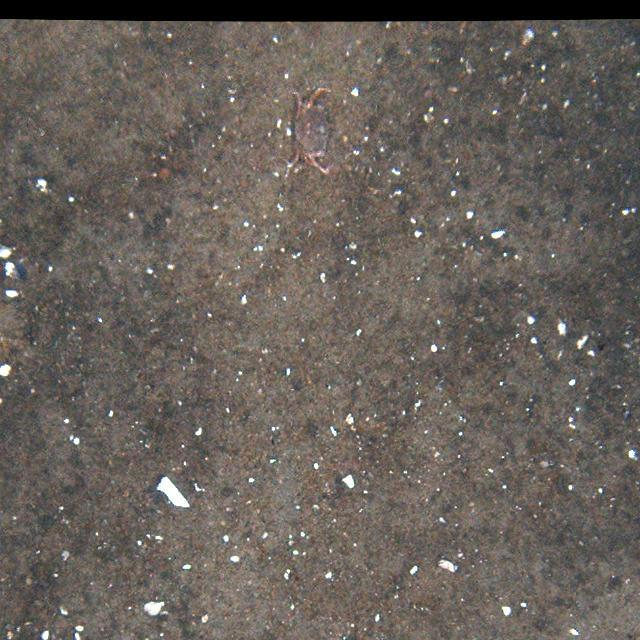crab: (282, 84, 336, 181)
